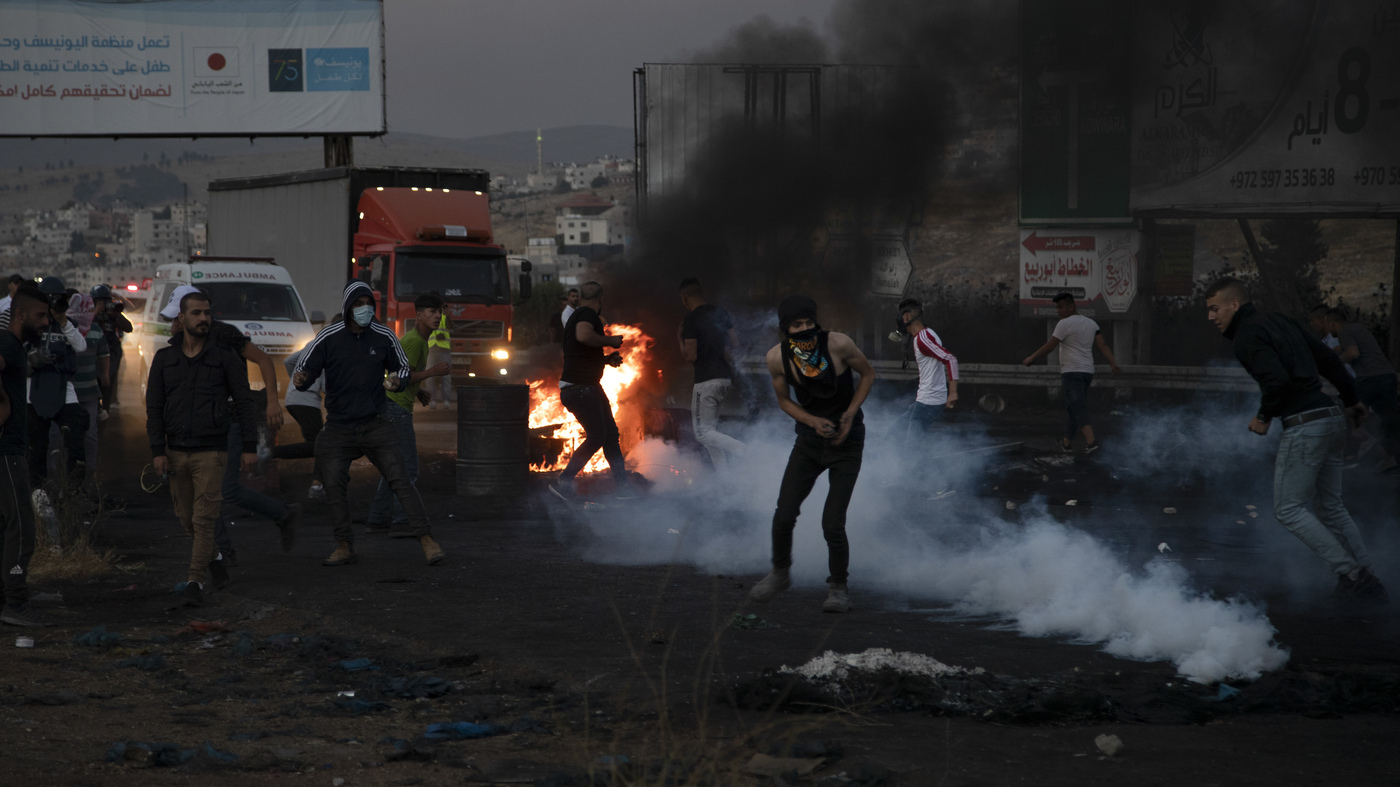fire: (525, 319, 657, 481)
smoke: (989, 506, 1276, 685), (855, 404, 971, 598), (686, 412, 772, 577)
